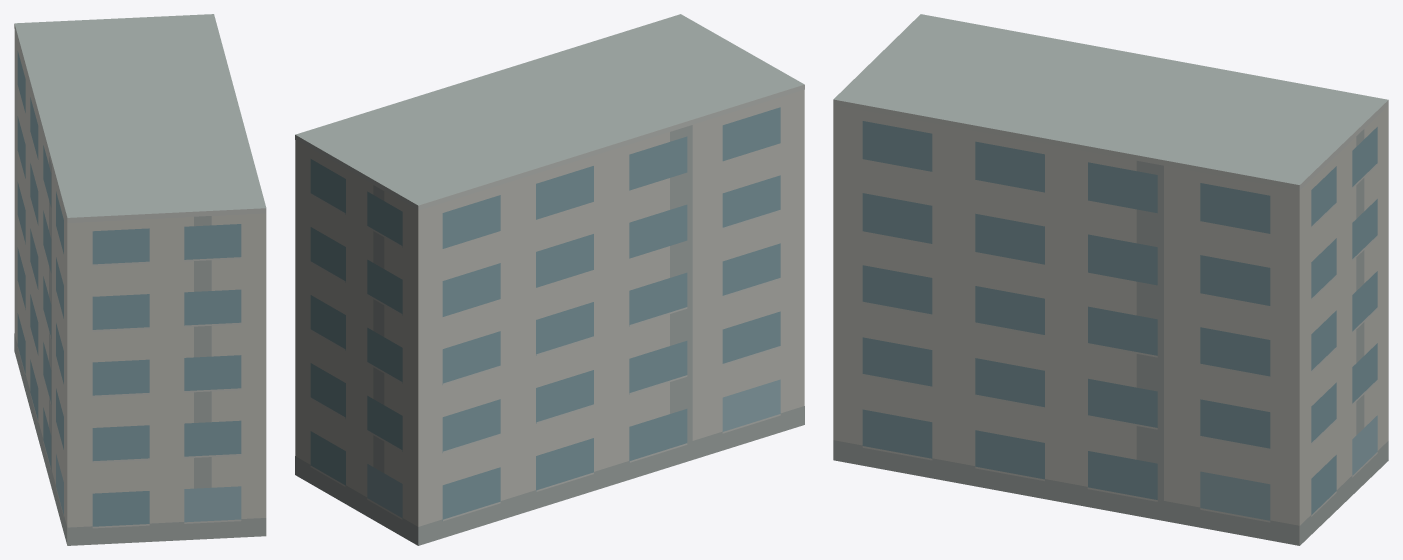
File: survey-upis-32985470.glb
3 views of the same model, side by side, from view 1: azimuth 30°, elevation 25°; view 2: azimuth 150°, elevation 25°; view 3: azimuth 270°, elevation 25° (orthographic). The views are drawn at different scales.
Parts seen in each view (by area): view 1: survey-upis-32985470.tmp; view 2: survey-upis-32985470.tmp; view 3: survey-upis-32985470.tmp.
Part boxes in pixels (x1=…): survey-upis-32985470.tmp: x1=14, y1=14, x2=266, y2=545; survey-upis-32985470.tmp: x1=295, y1=14, x2=804, y2=545; survey-upis-32985470.tmp: x1=833, y1=14, x2=1388, y2=545.
Bounding box in the file's own units: 16.29 × 16 × 22.33.
